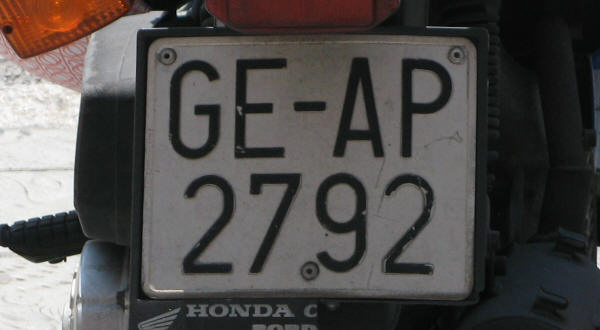license_plate: (141, 35, 477, 303)
